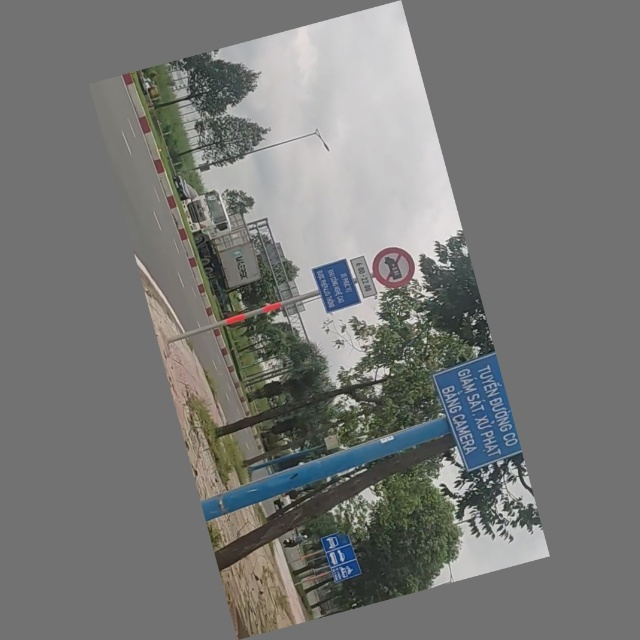P.106a*Xe tai: (368, 240, 421, 293)
